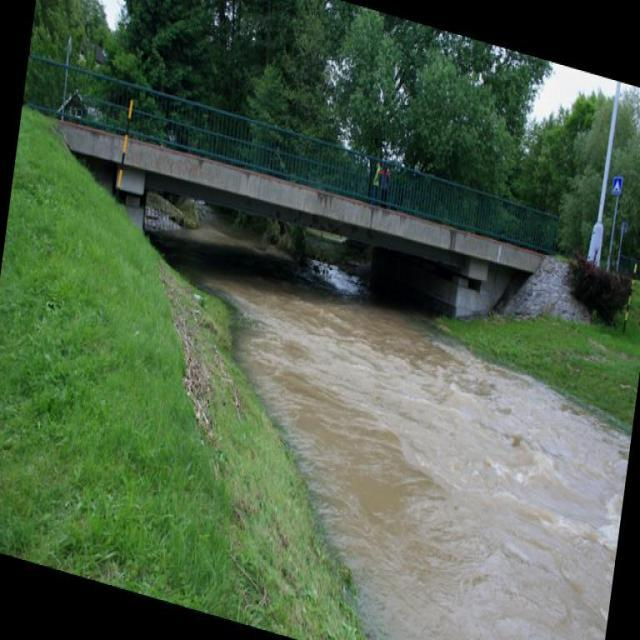flood: (127, 213, 639, 639)
